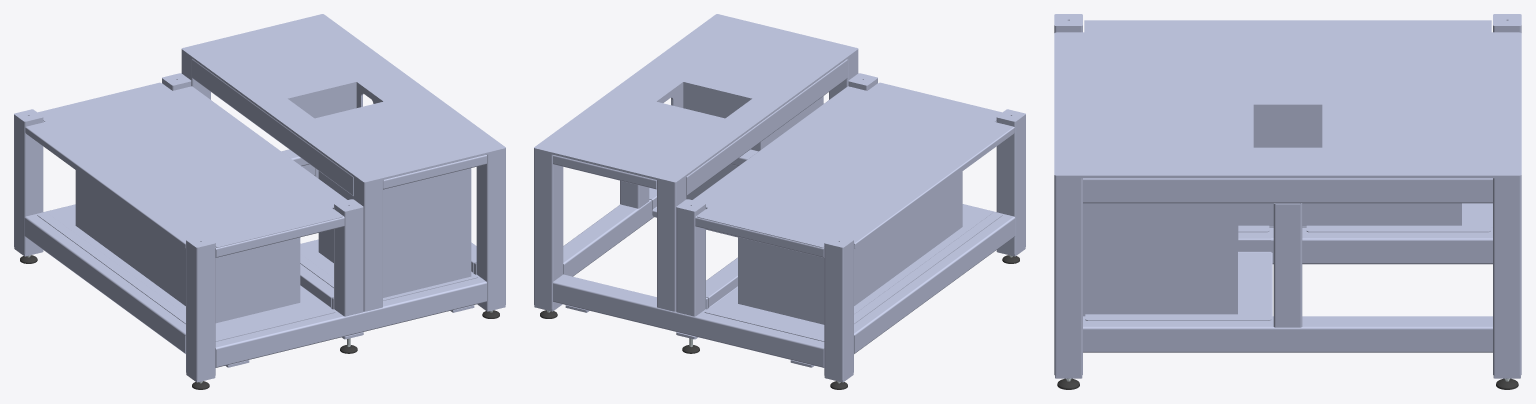
The model's file is WorkDesk-transformed.glb.
The picture shows the model from 3 angles, left to right: view 1: azimuth 30°, elevation 25°; view 2: azimuth 150°, elevation 25°; view 3: azimuth 270°, elevation 25°; orthographic projection. The views are drawn at different scales.
Visible parts, largest first — view 1: Body1, Body1.027; view 2: Body1, Body1.027; view 3: Body1, Body1.027.
Boxes of the visible parts, x1,y1,x2,y2 form: Body1: (14,14,505,382); Body1.027: (20,255,499,389); Body1: (534,14,1025,382); Body1.027: (540,255,1019,389); Body1: (1054,14,1521,378); Body1.027: (1057,378,1518,389).
Size of the model in its own units: 1.59 by 0.832 by 1.63.
